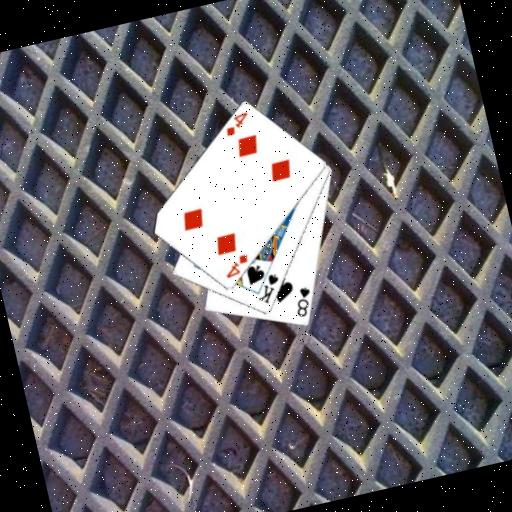4D: (218, 251, 253, 281), (219, 109, 254, 139)
8S: (288, 283, 317, 321)
KS: (251, 270, 286, 308)
